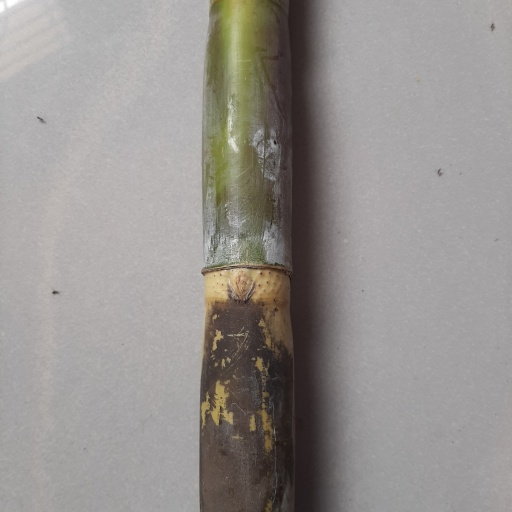Bud: (226, 267, 255, 301)
